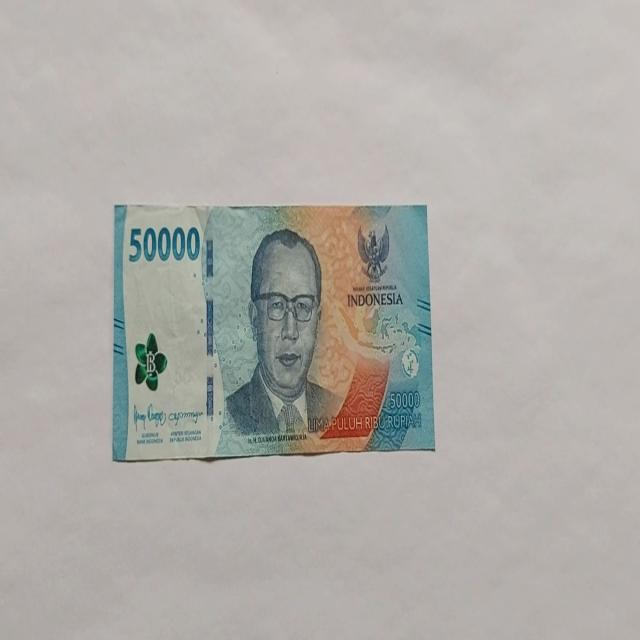lima puluh ribu rupiah: (111, 201, 435, 462), (221, 226, 347, 444)
